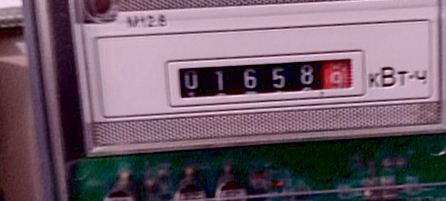0: (184, 66, 202, 89)
1: (214, 65, 230, 90)
5: (272, 63, 290, 88)
6: (243, 64, 263, 89)
8: (300, 61, 318, 84)
9: (329, 67, 347, 89)
screen: (164, 40, 374, 113)
